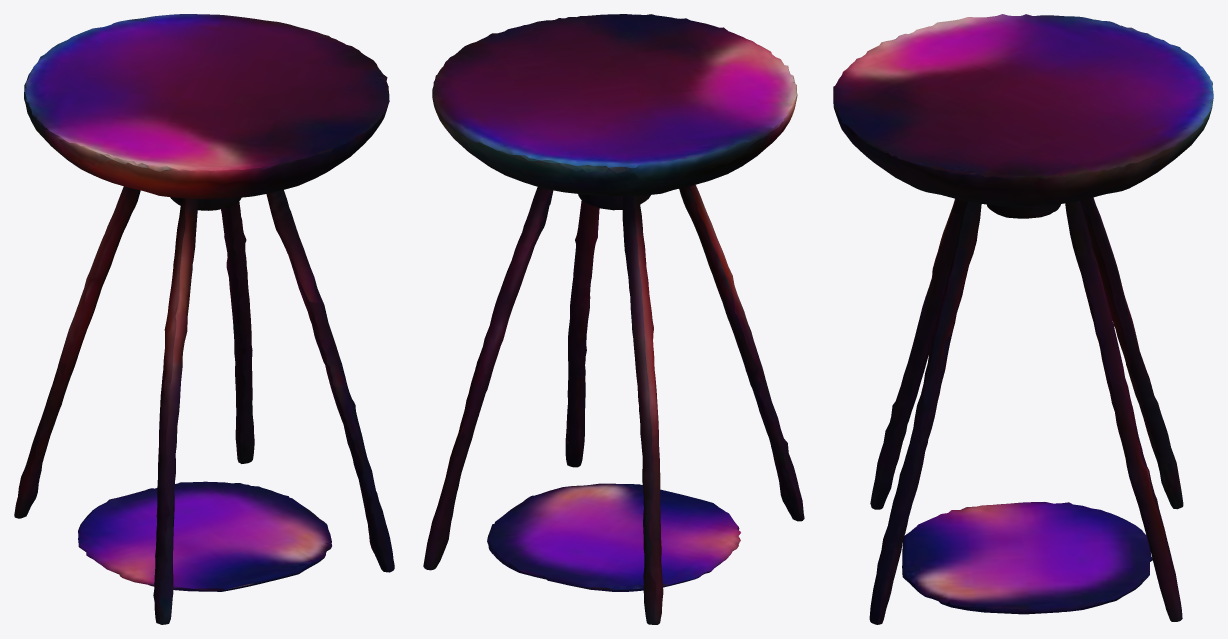
3 renders of one model, left to right at view 1: azimuth 30°, elevation 25°; view 2: azimuth 150°, elevation 25°; view 3: azimuth 270°, elevation 25°, orthographic. The views are drawn at different scales.
Visible parts, largest first — view 1: world; view 2: world; view 3: world.
Part boxes in pixels (box(x1,y1,x2,y2)): world: box(14, 14, 394, 624); world: box(423, 14, 804, 624); world: box(833, 14, 1213, 624).
Bounding box in the file's own units: 0.3034 × 0.4166 × 0.3029.
1 material, 1 textured.
